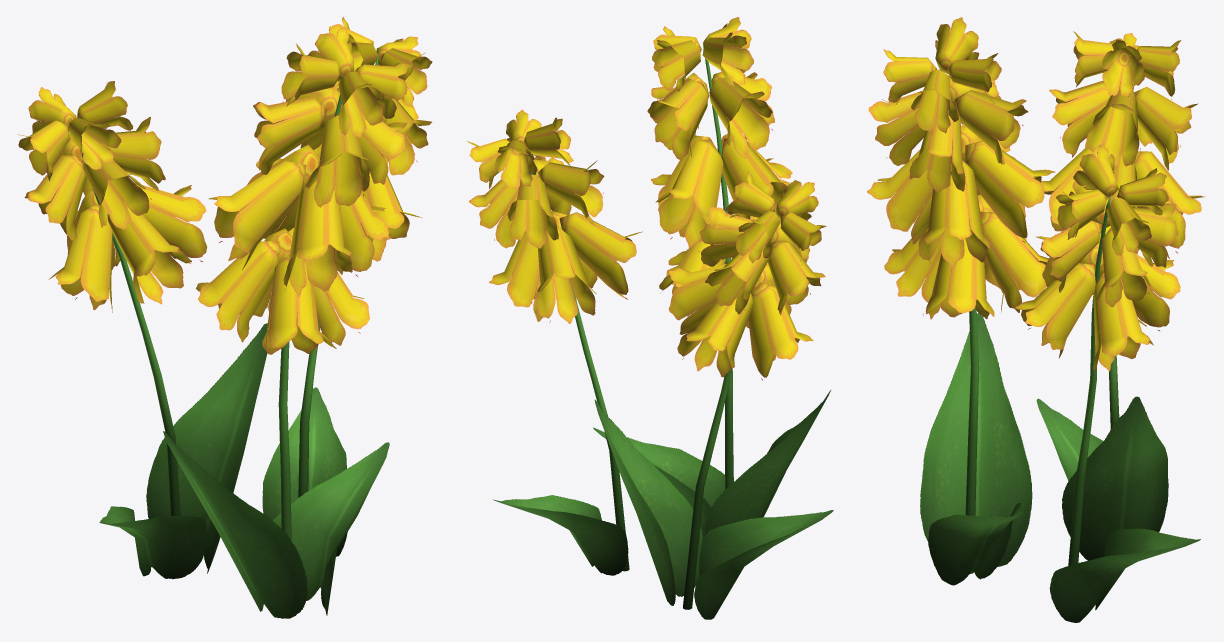
Rendered from Flower_4_Group.gltf.
3 views of the same model, side by side, from view 1: azimuth 30°, elevation 25°; view 2: azimuth 150°, elevation 25°; view 3: azimuth 270°, elevation 25° (orthographic). The views are drawn at different scales.
Visible parts, largest first — view 1: Flower_4_Group; view 2: Flower_4_Group; view 3: Flower_4_Group.
Part boxes in pixels (x1=…): Flower_4_Group: x1=17, y1=17, x2=432, y2=618; Flower_4_Group: x1=467, y1=17, x2=833, y2=619; Flower_4_Group: x1=867, y1=17, x2=1205, y2=622.
Bounding box in the file's own units: 1.78 × 2.49 × 1.37.
2 materials, 2 textured.
